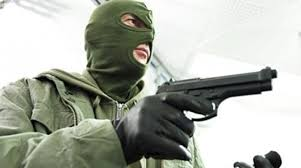gun: (152, 65, 287, 130)
